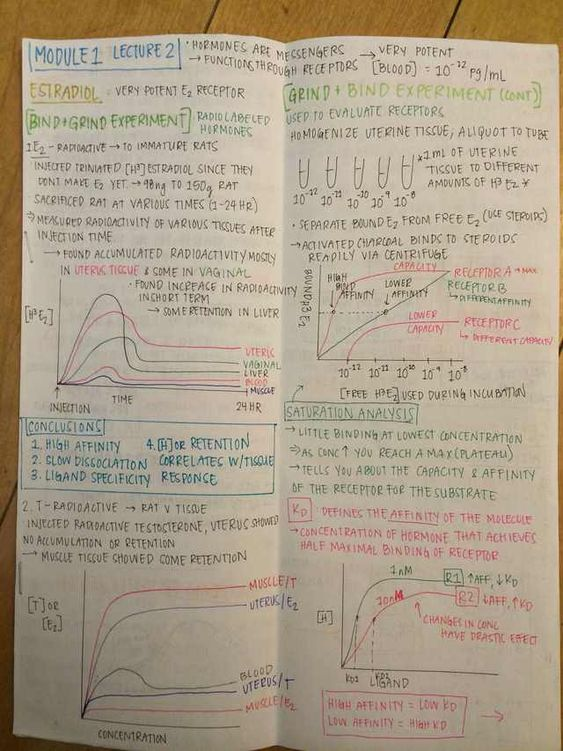page: (20, 35, 557, 739)
